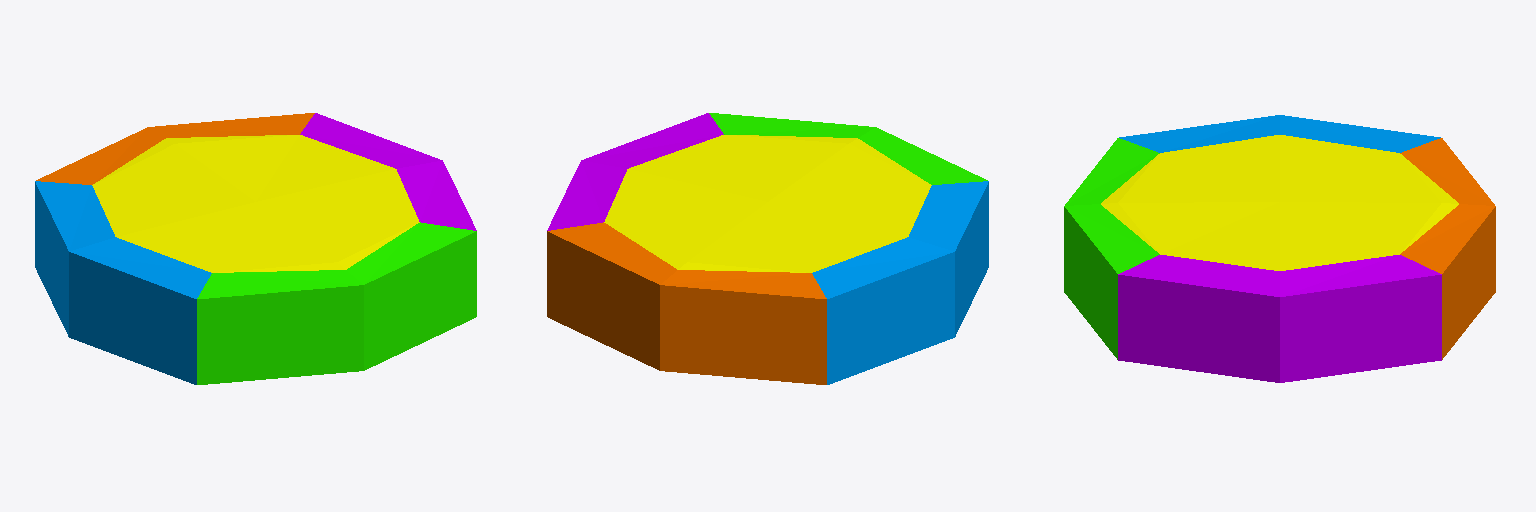
3 views of the same model, side by side, from view 1: azimuth 30°, elevation 25°; view 2: azimuth 150°, elevation 25°; view 3: azimuth 270°, elevation 25° (orthographic).
Parts seen in each view (by area): view 1: pCube1; view 2: pCube1; view 3: pCube1.
Part boxes in pixels (x1,y1,x2,y2): pCube1: (35, 113, 476, 384); pCube1: (547, 113, 988, 384); pCube1: (1064, 115, 1495, 382).
Size of the model in its own units: 0.2314 by 0.0639 by 0.2314.
1 materials, 1 textured.